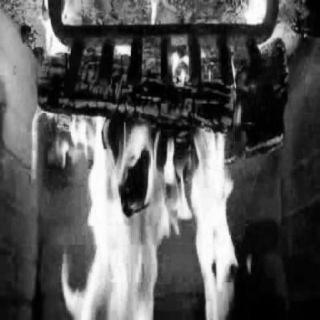Fire: (8, 14, 306, 318)
